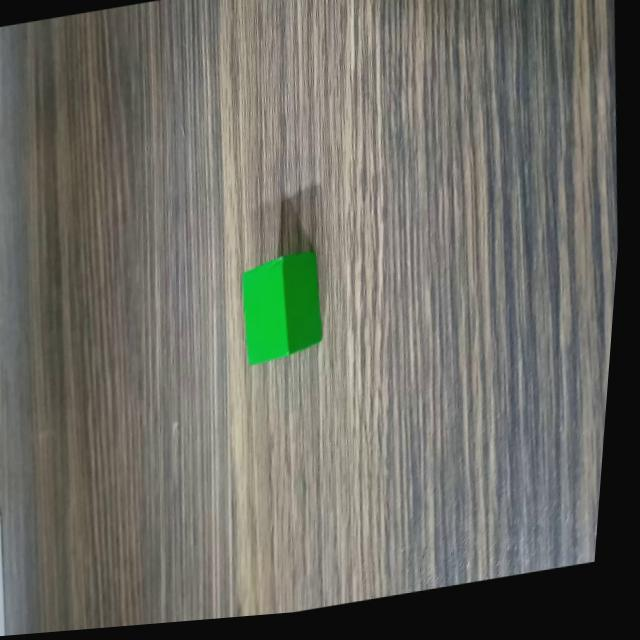cube: (236, 247, 337, 374)
